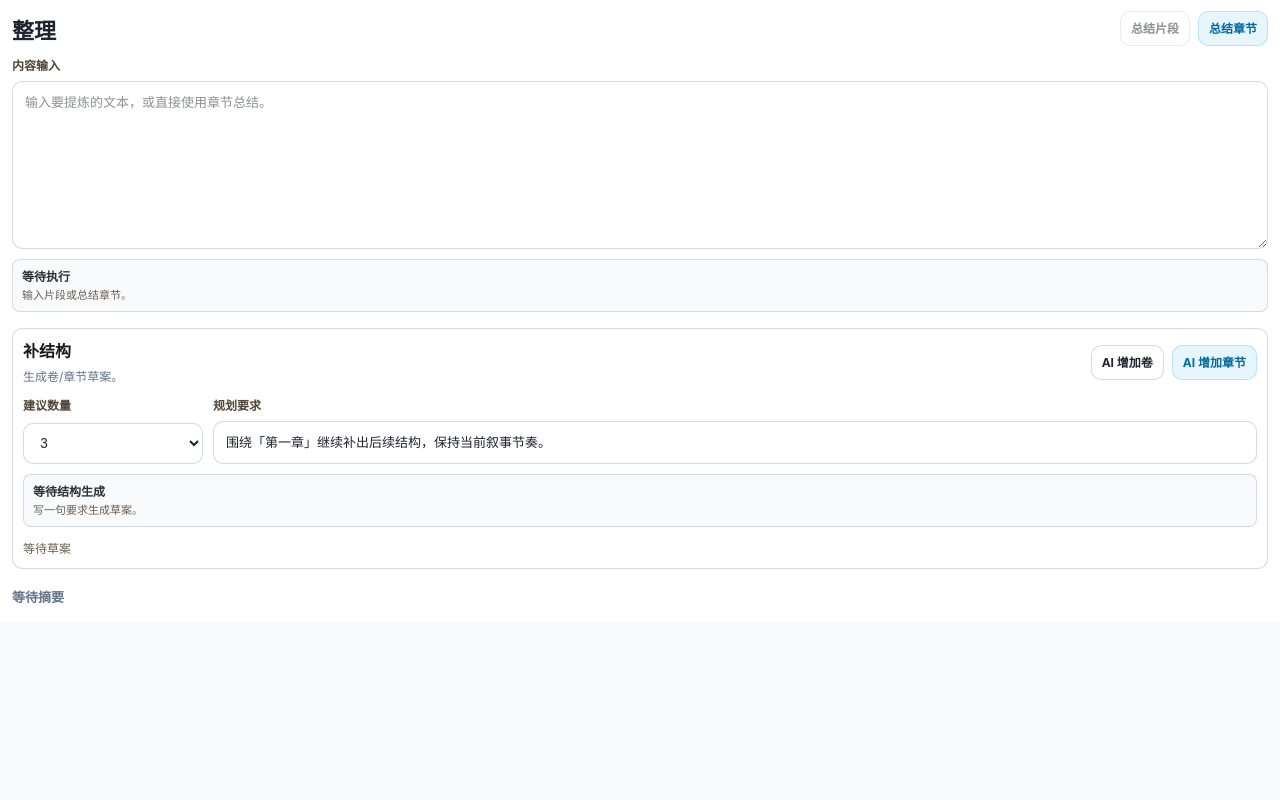
SummaryWorkbenchTool › shows unified offline message when chapter summary service is unavailable
Click the button with class "tool-panel__primary" showing "总结章节" at (1233,29), box left=1198, top=11, right=1268, bottom=46
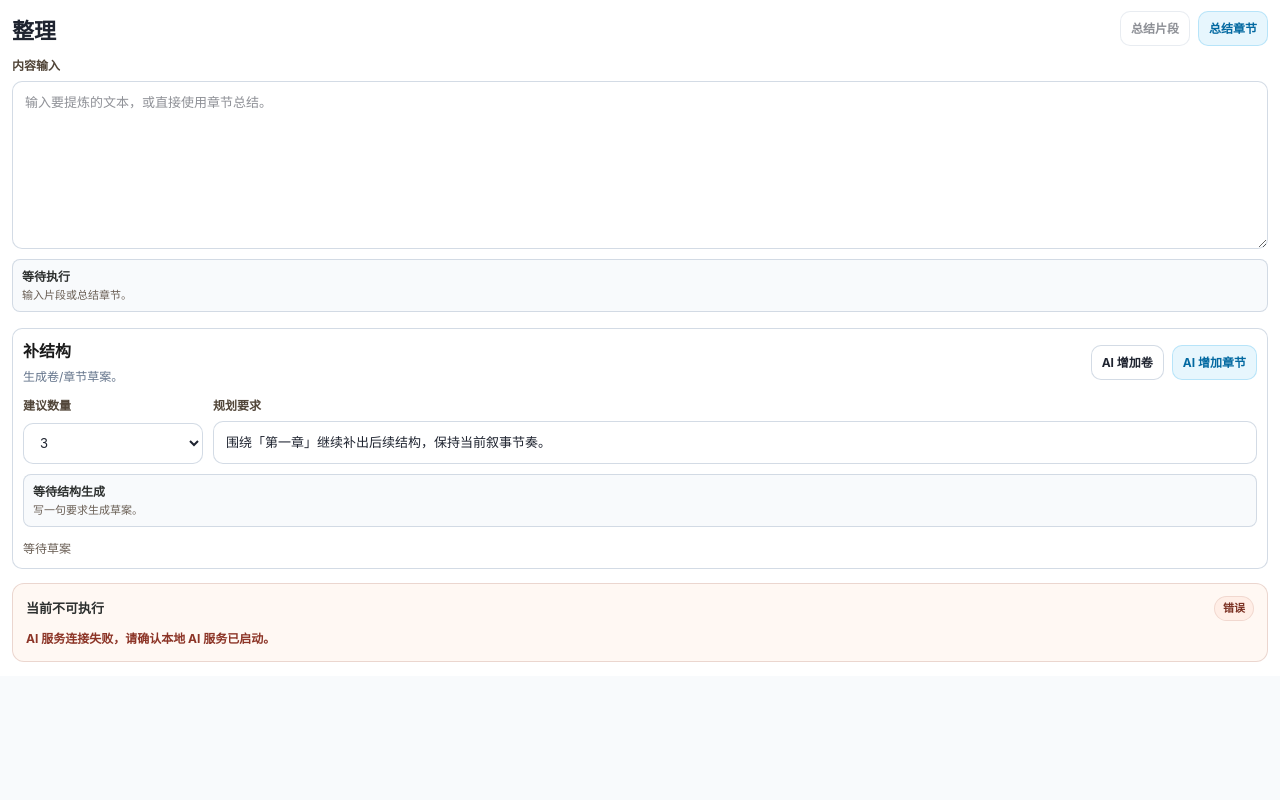
expect the message with class "tool-state-card--error" shows "AI 服务连接失败，请确认本地 AI 服务已启动。": met, box left=26, top=632, right=275, bottom=646
